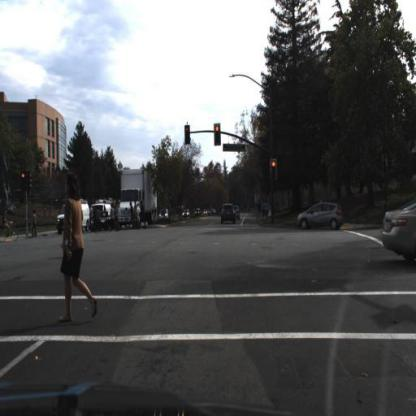biker: (1, 206, 21, 245)
car: (116, 165, 157, 229), (382, 201, 416, 266), (299, 200, 343, 231), (58, 202, 90, 233), (90, 201, 116, 222), (90, 210, 113, 228), (220, 203, 238, 226)
pedestrian: (59, 172, 98, 327), (114, 199, 125, 230), (129, 196, 137, 229), (32, 209, 40, 241), (107, 197, 115, 229), (113, 201, 122, 229), (139, 198, 147, 227), (94, 203, 101, 236), (129, 201, 135, 228), (134, 200, 139, 228)
trafficLight-Red: (213, 122, 222, 150), (271, 158, 279, 184)
trafficLight-RedLeft: (184, 123, 193, 146)
truck: (117, 168, 159, 226)
